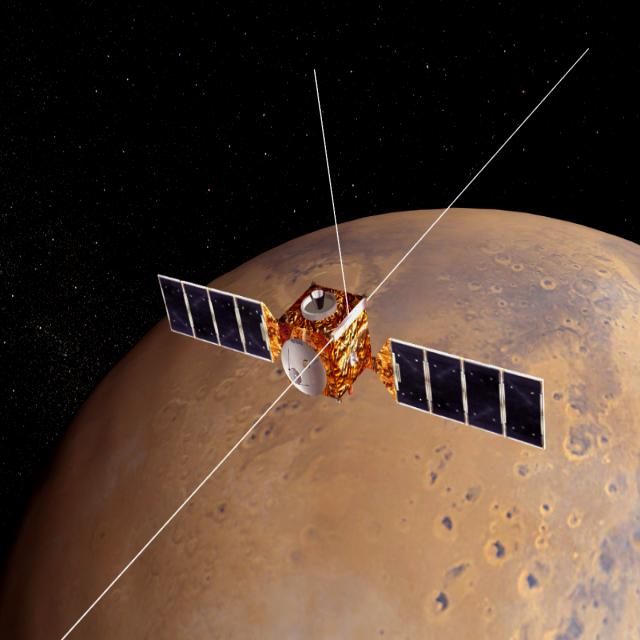satellite: (122, 196, 569, 514)
